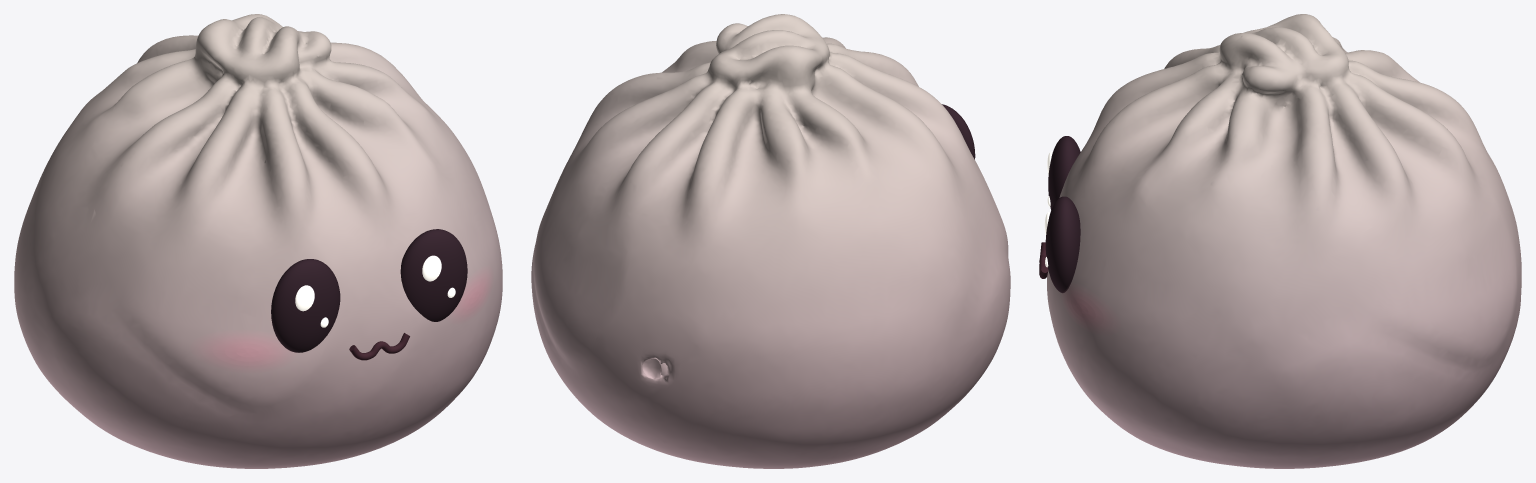
The model's file is dumpling.glb.
3 views of the same model, side by side, from view 1: azimuth 30°, elevation 25°; view 2: azimuth 150°, elevation 25°; view 3: azimuth 270°, elevation 25° (orthographic).
Visible parts, largest first — view 1: Body, Eye.L, Eye.R, Blush.L, Blush.R, Mouth; view 2: Body; view 3: Body, Eye.R, Blush.R, Eye.L.
Part boxes in pixels (<box>): Body: <box>14,14,502,468</box>; Eye.L: <box>271,259,340,352</box>; Eye.R: <box>400,229,467,321</box>; Blush.L: <box>202,334,288,369</box>; Blush.R: <box>452,272,490,319</box>; Mouth: <box>349,333,409,360</box>; Body: <box>531,14,1010,468</box>; Body: <box>1047,14,1521,468</box>; Eye.R: <box>1045,196,1080,293</box>; Blush.R: <box>1063,286,1111,330</box>; Eye.L: <box>1048,136,1080,209</box>.
Size of the model in its own units: 2.75 by 2.4 by 2.77.
